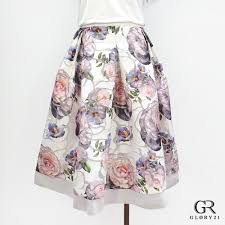C_skirt: (35, 25, 182, 207)
